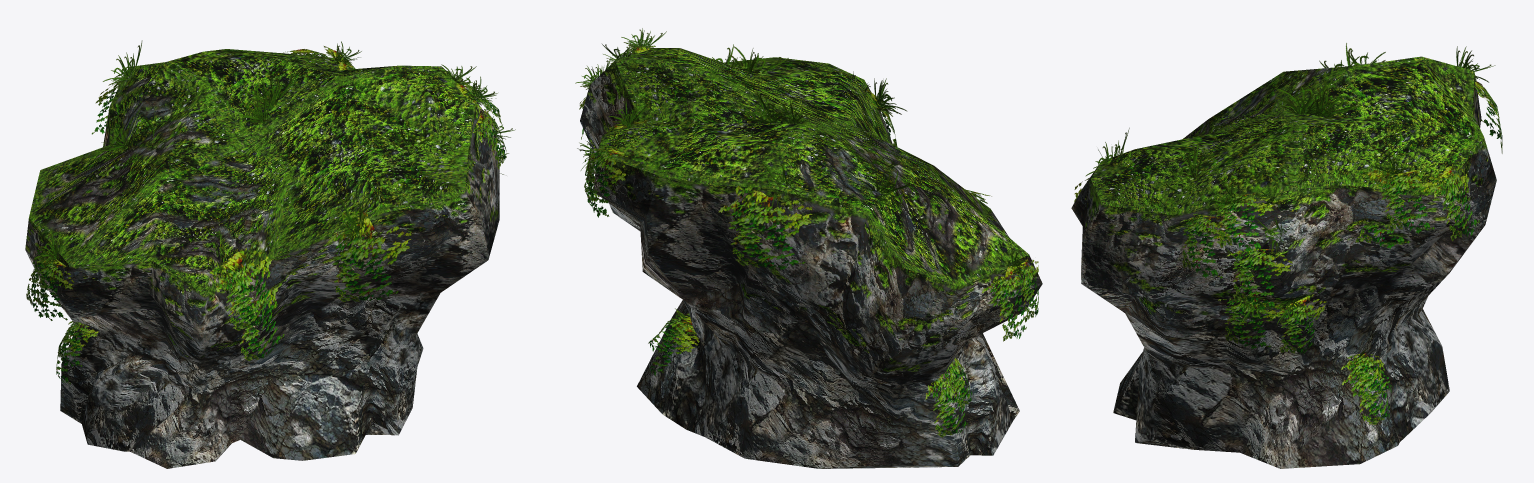
The model's file is rock30.glb.
3 renders of one model, left to right at view 1: azimuth 30°, elevation 25°; view 2: azimuth 150°, elevation 25°; view 3: azimuth 270°, elevation 25°, orthographic. The views are drawn at different scales.
Parts seen in each view (by area): view 1: rock30-col; view 2: rock30-col; view 3: rock30-col.
Part boxes in pixels (x1,y1,x2,y2): rock30-col: (25, 40, 515, 468); rock30-col: (575, 28, 1042, 468); rock30-col: (1071, 43, 1502, 468).
Size of the model in its own units: 17.21 by 12.78 by 13.12.
3 materials, 3 textured.
